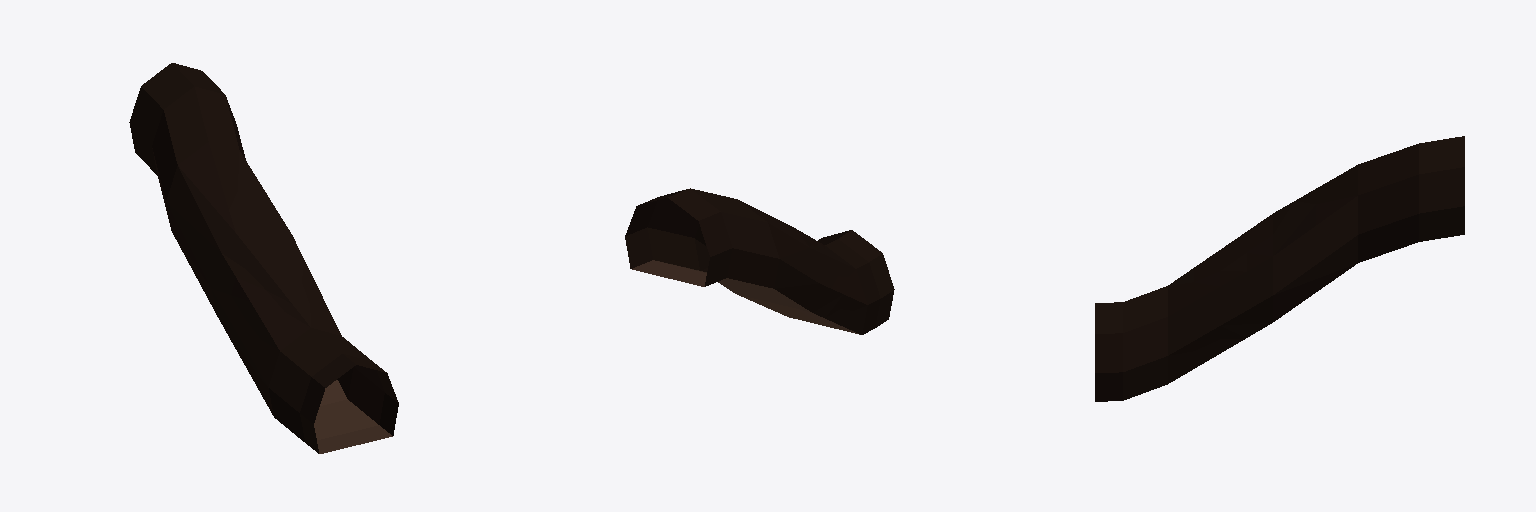
File: cave_tile_ramp2.obj
3 views of the same model, side by side, from view 1: azimuth 30°, elevation 25°; view 2: azimuth 150°, elevation 25°; view 3: azimuth 270°, elevation 25° (orthographic).
Visible parts, largest first — view 1: cave_tile_ramp:cave_tile_ramp; view 2: cave_tile_ramp:cave_tile_ramp; view 3: cave_tile_ramp:cave_tile_ramp.
Boxes of the visible parts, box(x1,y1,x2,y2) form: cave_tile_ramp:cave_tile_ramp: box(129, 63, 398, 453); cave_tile_ramp:cave_tile_ramp: box(625, 188, 894, 334); cave_tile_ramp:cave_tile_ramp: box(1095, 136, 1464, 401).
Size of the model in its own units: 6.36 by 14.83 by 20.